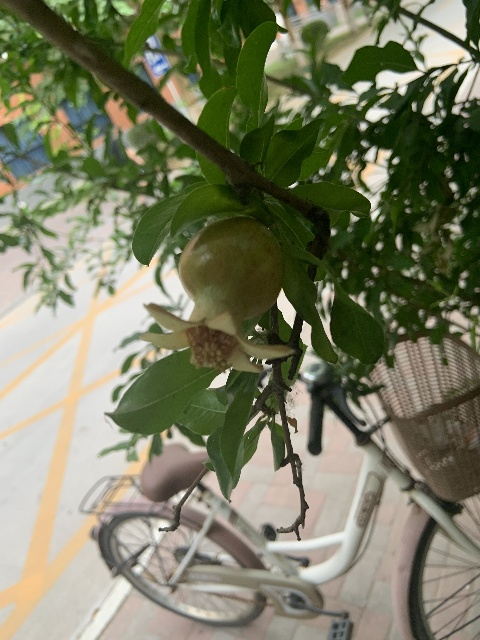early-fruit: (139, 216, 294, 373)
